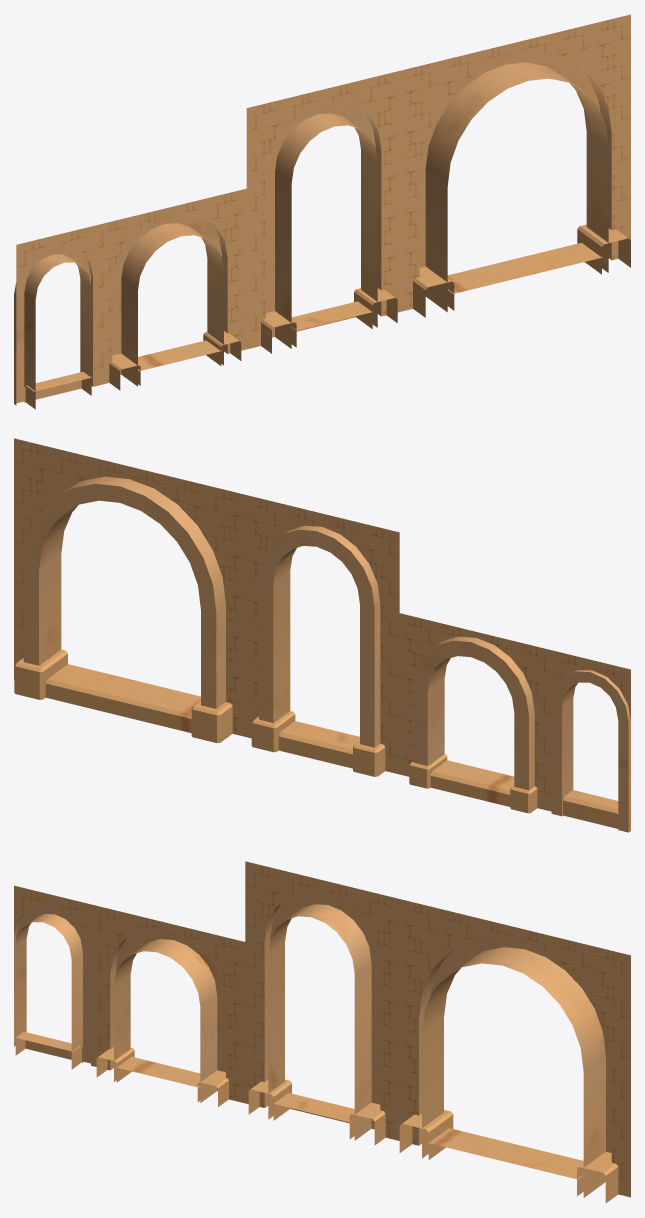
File: Arc_Walls.fbx
The picture shows the model from 3 angles, top to bottom: view 1: azimuth 30°, elevation 25°; view 2: azimuth 150°, elevation 25°; view 3: azimuth 330°, elevation 25°; orthographic projection.
Visible parts, largest first — view 1: Arc_Wall_6x6, Arc_Wall_4x6, Arc_Wall_4x4, Arc_Wall_2x4; view 2: Arc_Wall_6x6, Arc_Wall_4x6, Arc_Wall_4x4, Arc_Wall_2x4; view 3: Arc_Wall_6x6, Arc_Wall_4x6, Arc_Wall_4x4, Arc_Wall_2x4.
Part boxes in pixels (bbox=[...]): Arc_Wall_6x6: bbox=[400, 14, 630, 317]; Arc_Wall_4x6: bbox=[246, 71, 400, 353]; Arc_Wall_4x4: bbox=[93, 188, 246, 390]; Arc_Wall_2x4: bbox=[14, 226, 92, 409]; Arc_Wall_6x6: bbox=[14, 438, 245, 742]; Arc_Wall_4x6: bbox=[245, 495, 399, 776]; Arc_Wall_4x4: bbox=[399, 613, 553, 813]; Arc_Wall_2x4: bbox=[551, 651, 630, 832]; Arc_Wall_6x6: bbox=[399, 899, 630, 1203]; Arc_Wall_4x6: bbox=[245, 861, 399, 1145]; Arc_Wall_4x4: bbox=[91, 904, 245, 1106]; Arc_Wall_2x4: bbox=[14, 885, 90, 1069].
Bounding box in the file's own units: 1600 × 600 × 117.
